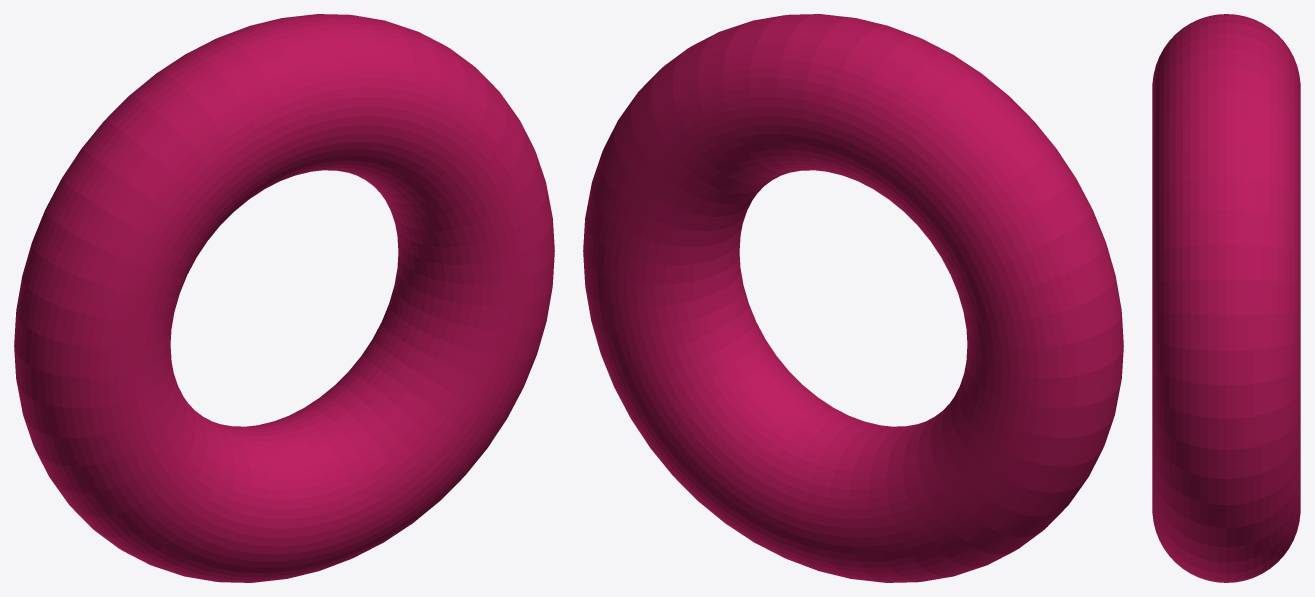
The picture shows the model from 3 angles, left to right: view 1: azimuth 30°, elevation 25°; view 2: azimuth 150°, elevation 25°; view 3: azimuth 270°, elevation 25°; orthographic projection. The views are drawn at different scales.
Parts seen in each view (by area): view 1: world; view 2: world; view 3: world.
Part boxes in pixels (x1,y1,x2,y2): world: [14, 14, 554, 582]; world: [583, 14, 1123, 582]; world: [1152, 14, 1300, 582].
Size of the model in its own units: 34.27 by 34.2 by 8.92.
